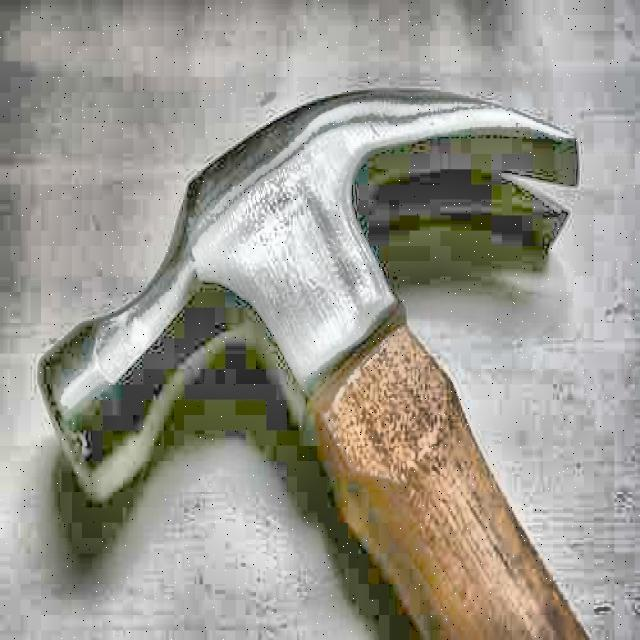hammer: (34, 89, 589, 639)
